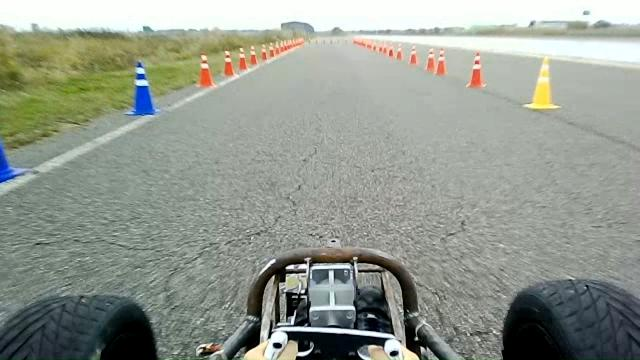blue cone: (124, 60, 159, 116)
red cone: (466, 52, 486, 88), (196, 53, 216, 88), (221, 48, 237, 77), (435, 48, 447, 75), (425, 47, 435, 72), (238, 47, 248, 71), (408, 44, 418, 65), (250, 45, 258, 65), (396, 43, 403, 60), (268, 42, 275, 57), (261, 43, 267, 60)
yellow cone: (523, 56, 561, 110)
